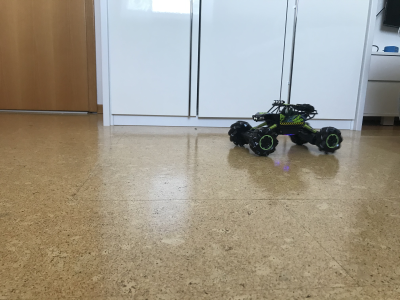remote control car: (227, 98, 346, 158)
